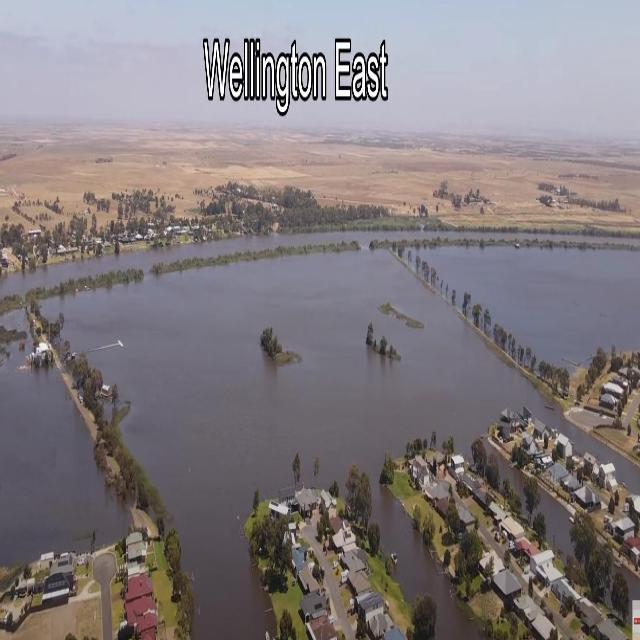flood: (40, 245, 640, 636), (0, 220, 640, 305), (0, 341, 128, 561), (422, 245, 640, 366), (0, 309, 27, 327)
house: (122, 573, 160, 640), (528, 550, 566, 596), (520, 589, 554, 640), (43, 552, 75, 605), (356, 594, 386, 638), (499, 402, 532, 442), (491, 568, 524, 598), (499, 516, 530, 546), (600, 381, 627, 415), (574, 480, 601, 514), (29, 338, 56, 371), (295, 484, 317, 524), (300, 592, 328, 622), (304, 618, 342, 640), (124, 531, 147, 567), (344, 549, 372, 578), (454, 493, 477, 528), (298, 561, 320, 595), (1, 244, 22, 279), (409, 454, 429, 486), (320, 488, 337, 523), (266, 500, 292, 521), (424, 446, 445, 472), (616, 512, 634, 541), (448, 452, 468, 476), (534, 418, 550, 440), (558, 432, 571, 458)
